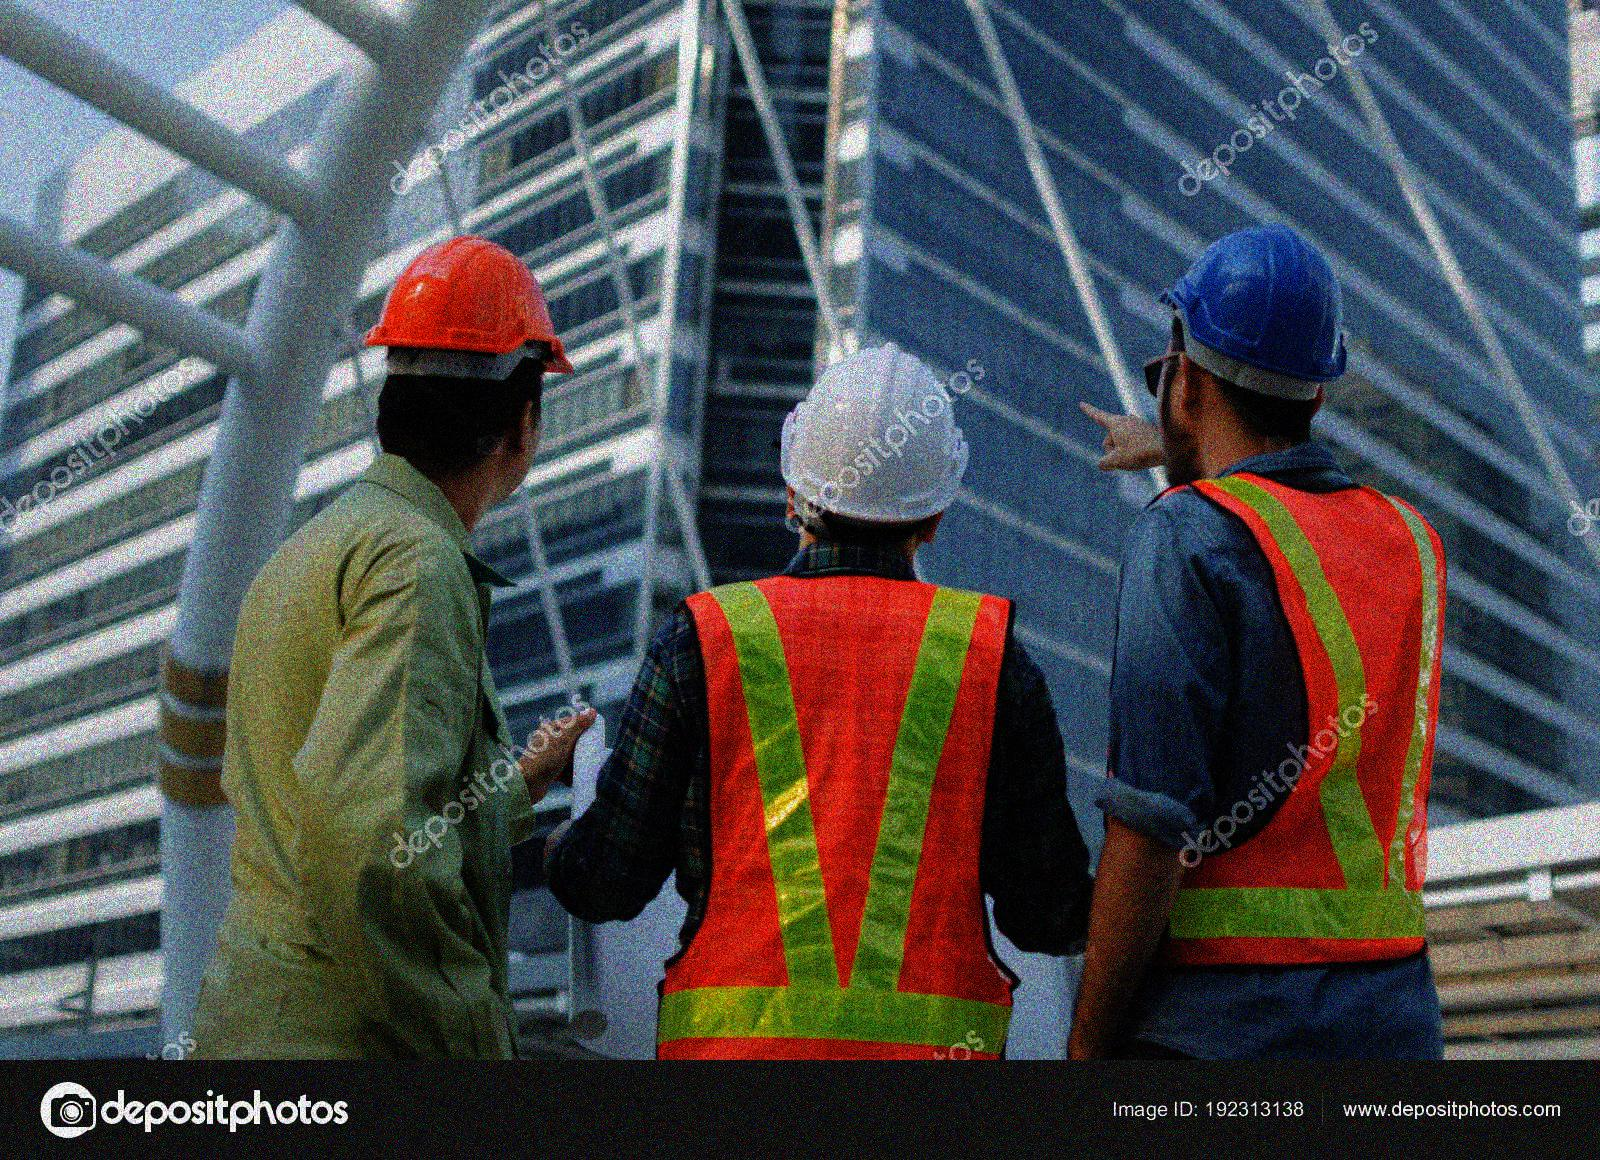helmet: (359, 229, 581, 496), (1147, 220, 1352, 488), (774, 340, 974, 573)
